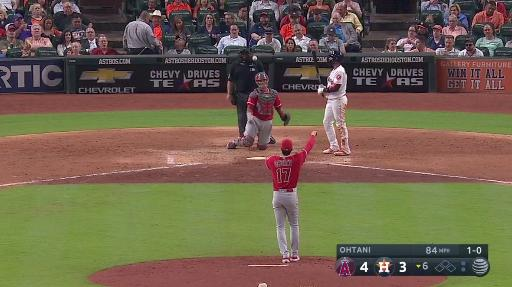pitcher: (264, 132, 318, 262)
